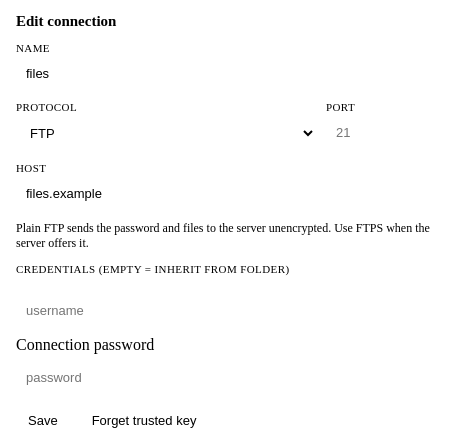
it: FTP connections in the editor › warns about plain FTP and offers neither keys nor a jump host
Expected: the text "unencrypted" is shown, [16,221,430,250]
Select "FTPS" in the dropdown labelled "Protocol" at (166, 134), box [16,117,316,150]
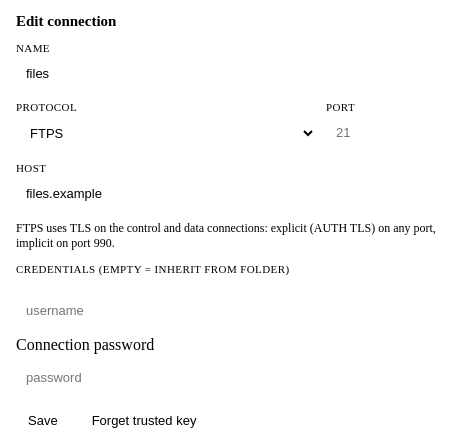
Expected: the text "implicit on port 990" is shown, [16,221,436,250]
